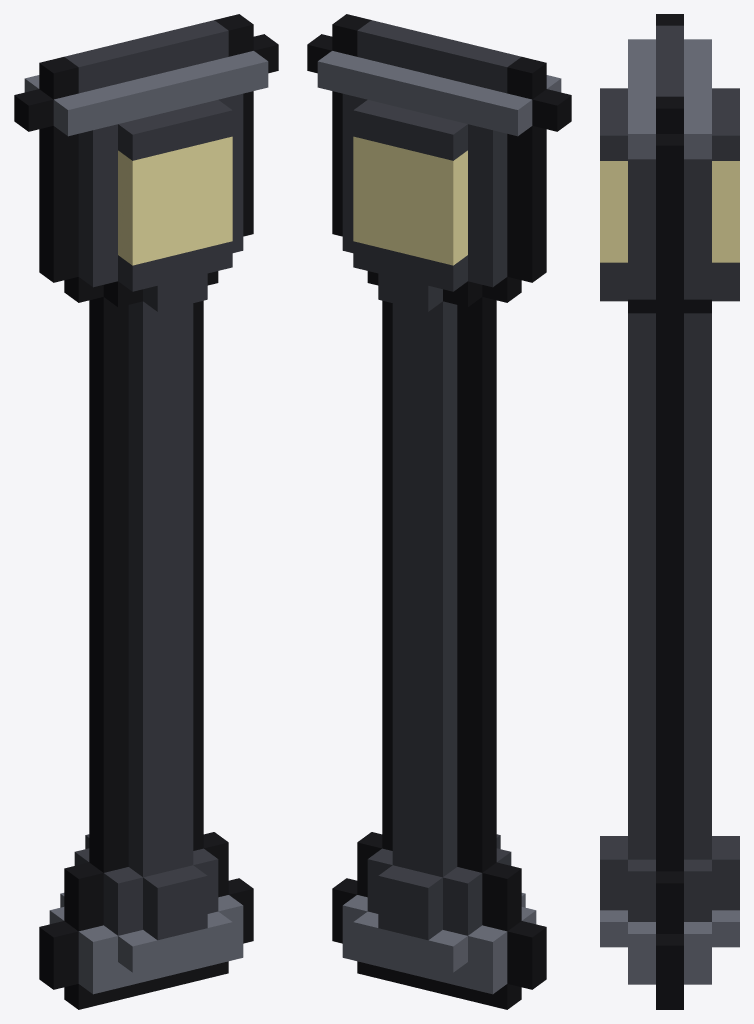
Rendered from lamp_post.glb.
The picture shows the model from 3 angles, left to right: view 1: azimuth 30°, elevation 25°; view 2: azimuth 150°, elevation 25°; view 3: azimuth 270°, elevation 25°; orthographic projection. The views are drawn at different scales.
Parts seen in each view (by area): view 1: f0; view 2: f0; view 3: f0.
Part boxes in pixels (left/top/right/bottom): f0: left=14, top=14, right=278, bottom=1009; f0: left=307, top=14, right=571, bottom=1009; f0: left=600, top=14, right=739, bottom=1009.
Bounding box in the file's own units: 0.625 × 2.25 × 0.3125.
